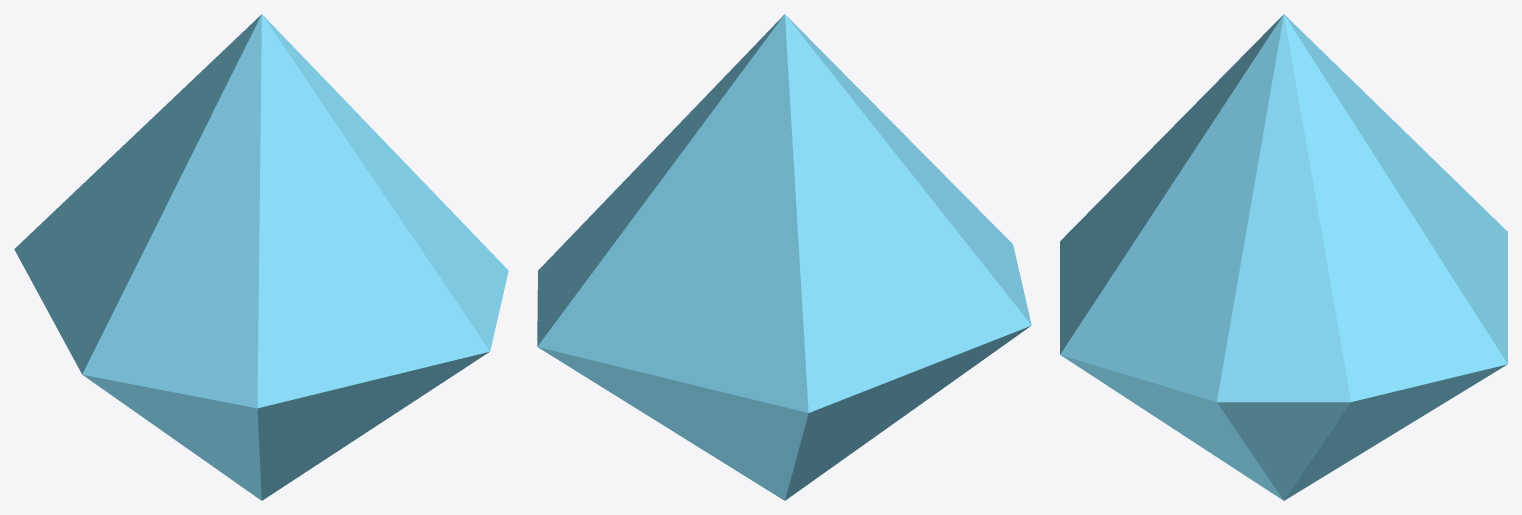
The model's file is service-web.gltf.
The picture shows the model from 3 angles, left to right: view 1: azimuth 30°, elevation 25°; view 2: azimuth 150°, elevation 25°; view 3: azimuth 270°, elevation 25°; orthographic projection.
Visible parts, largest first — view 1: service-web; view 2: service-web; view 3: service-web.
Boxes of the visible parts, x1,y1,x2,y2 form: service-web: [14, 14, 508, 500]; service-web: [537, 14, 1031, 500]; service-web: [1060, 14, 1507, 500].
Bounding box in the file's own units: 2.2 × 2.4 × 2.
